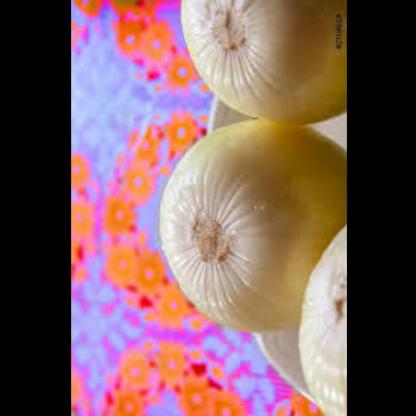onion: (158, 123, 344, 333), (179, 0, 345, 130), (297, 220, 345, 416)
